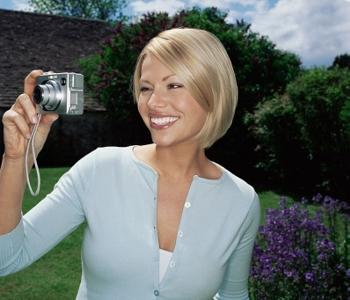person: (2, 81, 260, 300)
